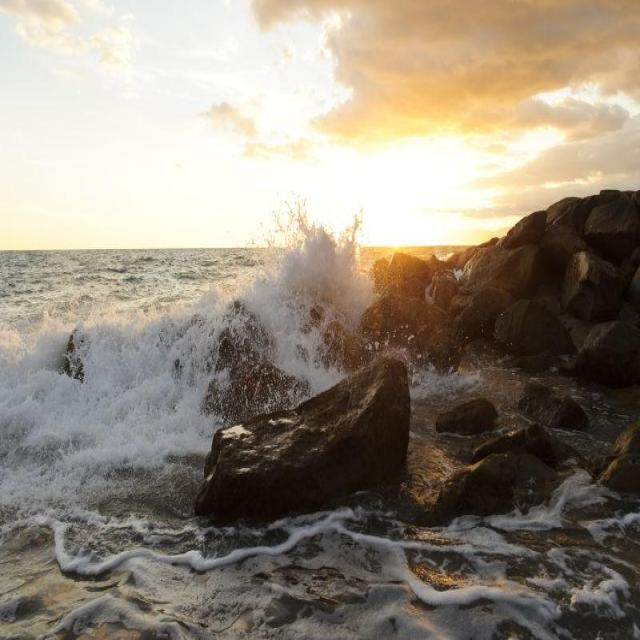reef: (81, 207, 554, 526)
